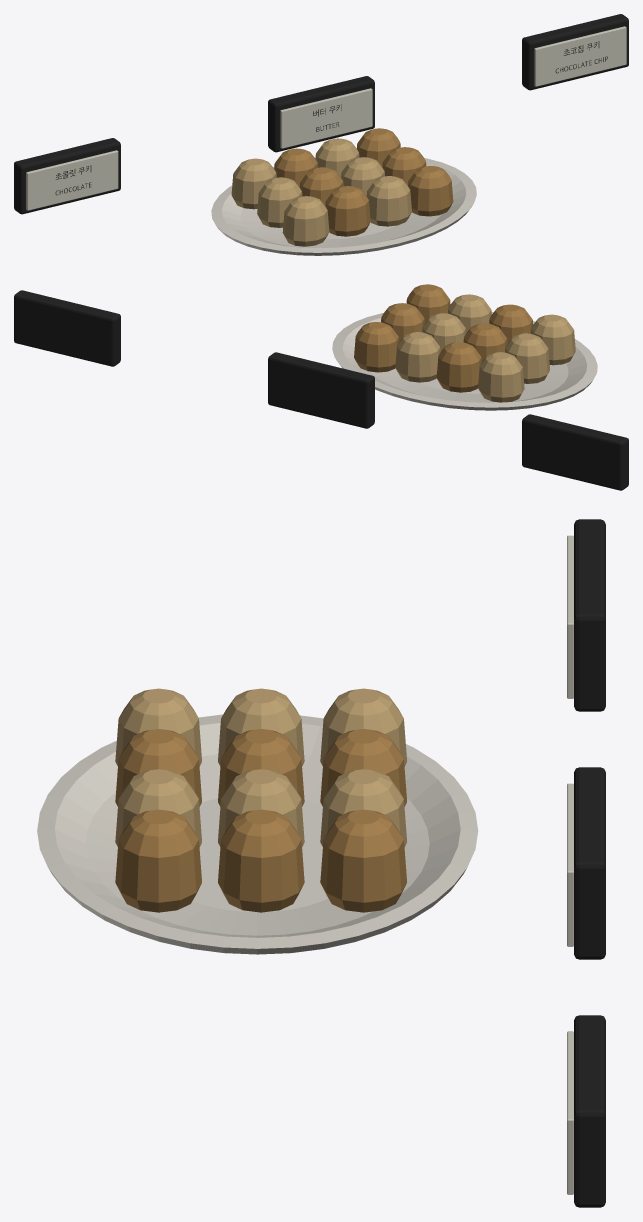
The model's file is cakes.glb.
3 renders of one model, top to bottom at view 1: azimuth 30°, elevation 25°; view 2: azimuth 150°, elevation 25°; view 3: azimuth 270°, elevation 25°, orthographic. The views are drawn at different scales.
Visible parts, largest first — view 1: cakes; view 2: cakes; view 3: cakes.
Part boxes in pixels (box(x1,y1,x2,y2)): cakes: box(14, 14, 628, 255); cakes: box(14, 284, 628, 490); cakes: box(37, 519, 605, 1207).
Size of the model in its own units: 0.796 by 0.068 by 0.3219.
